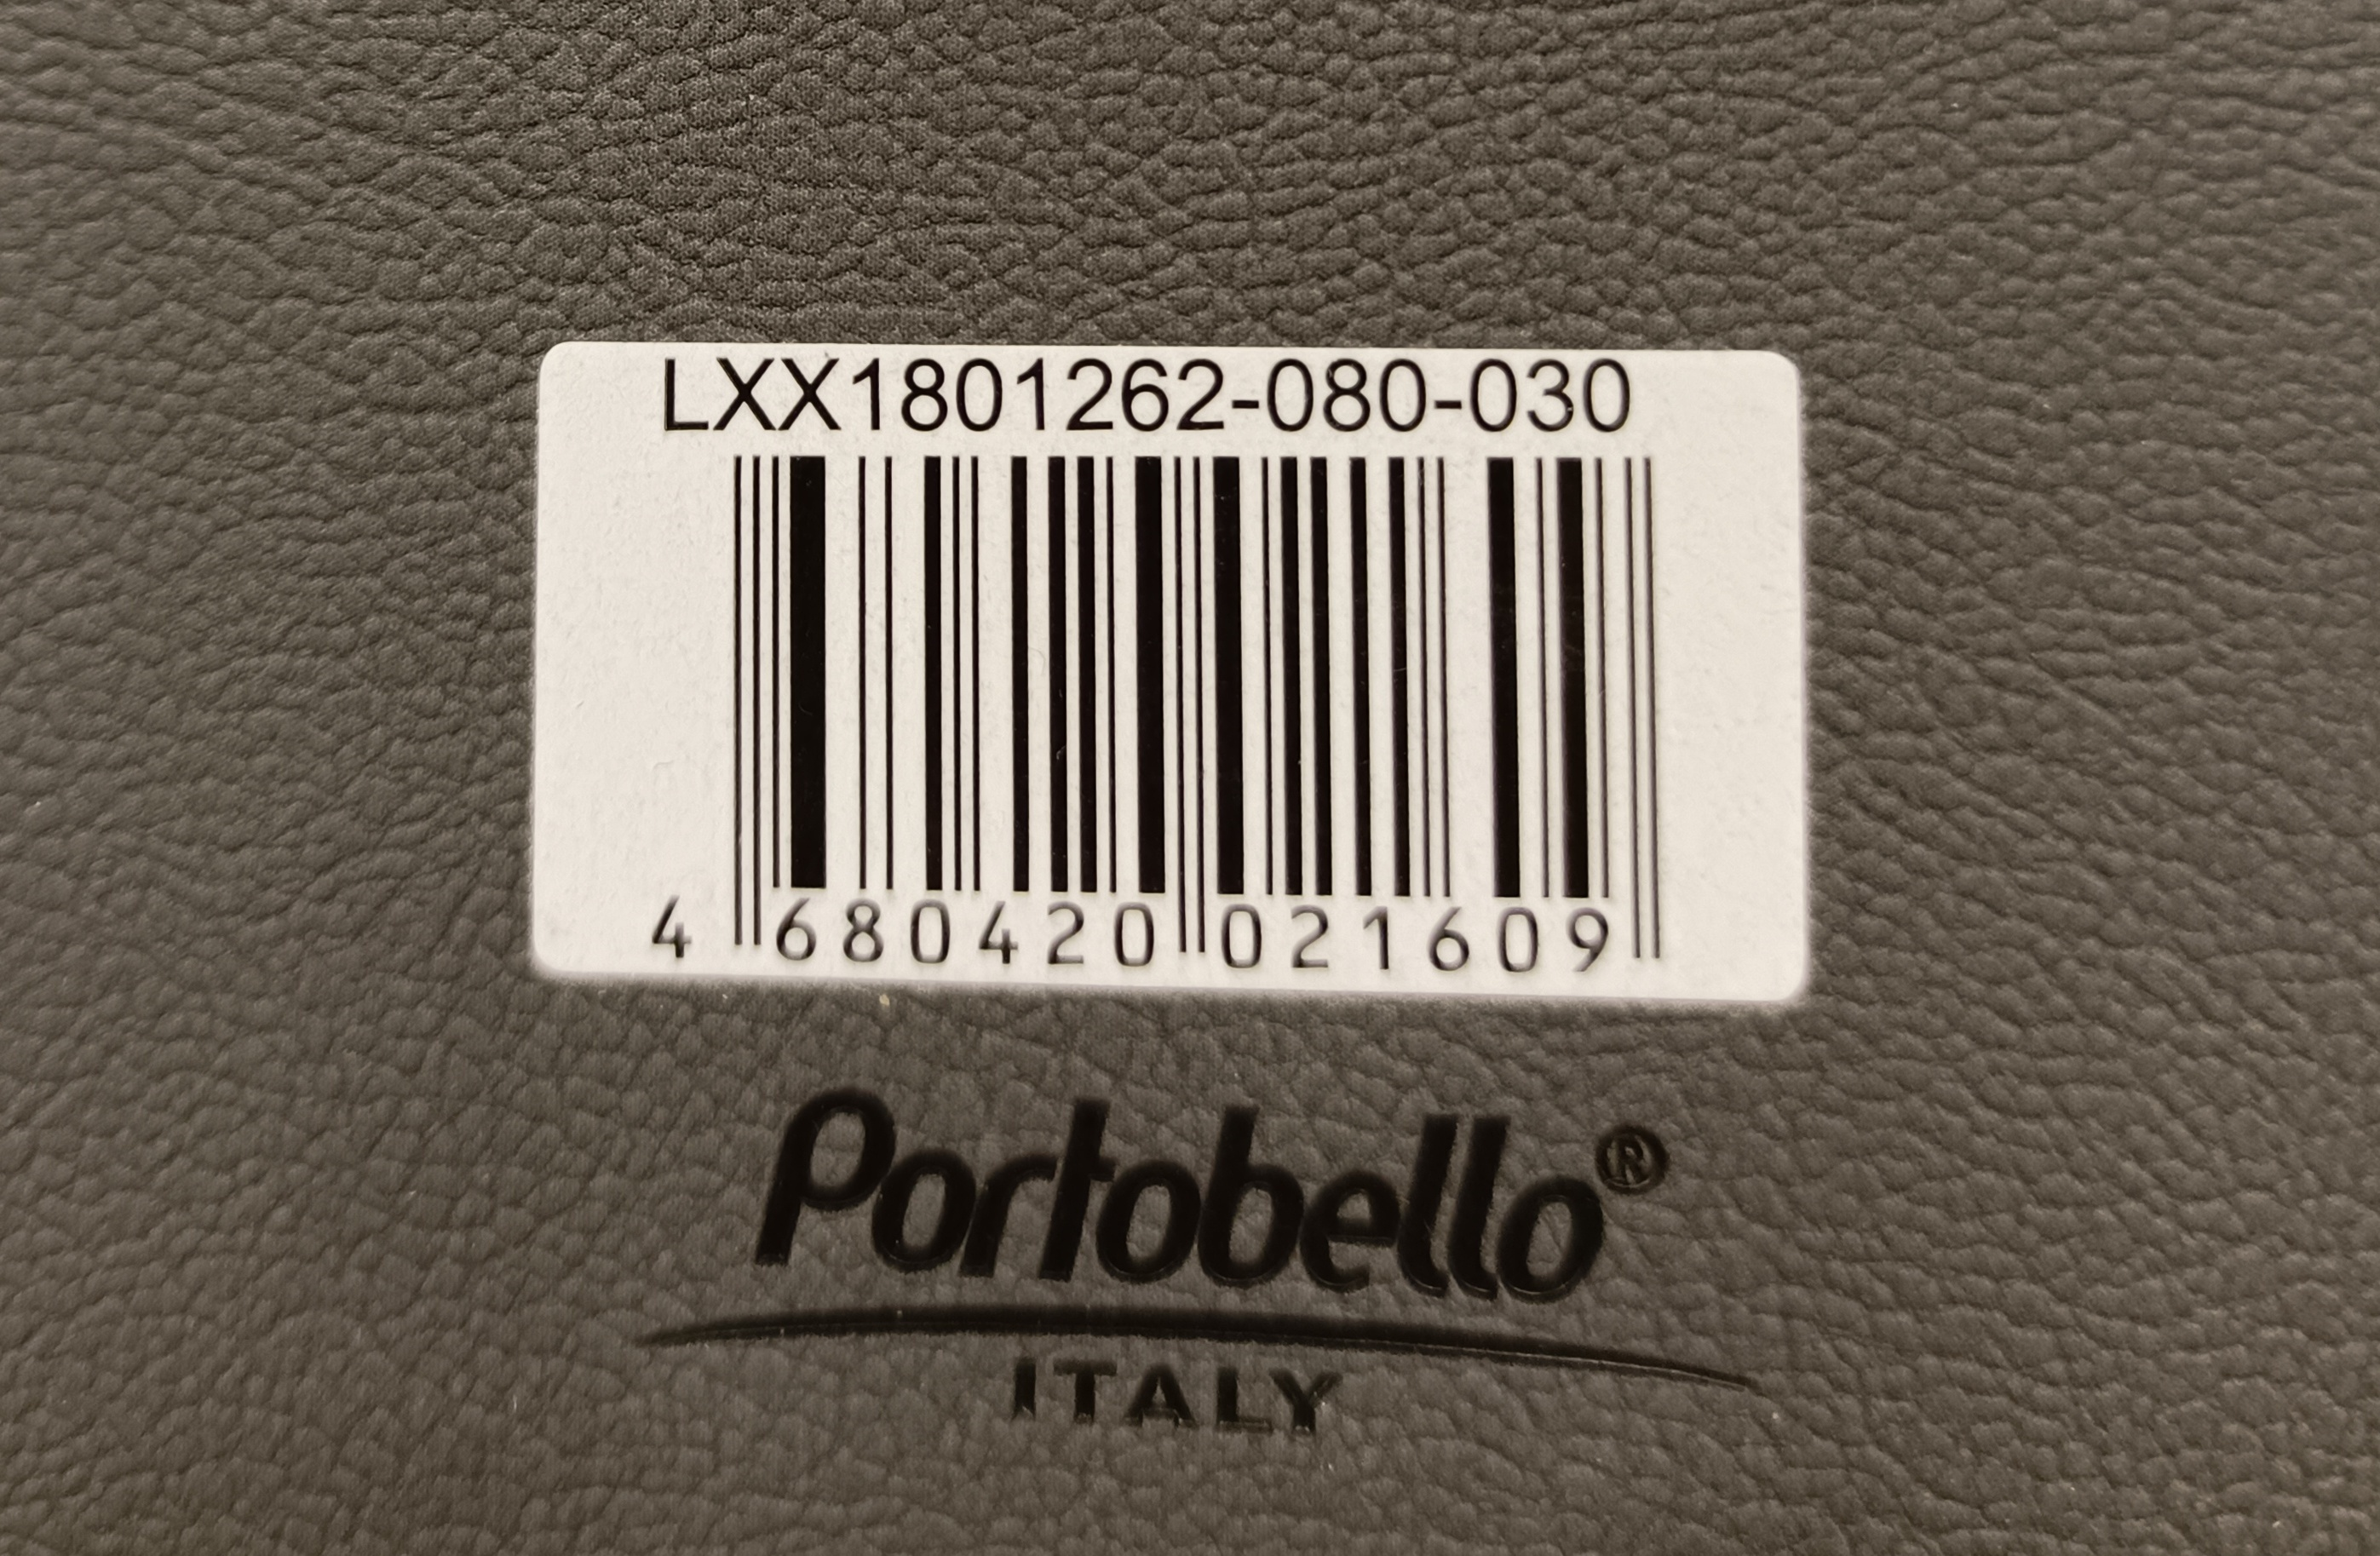1d: (731, 448, 1667, 898)
